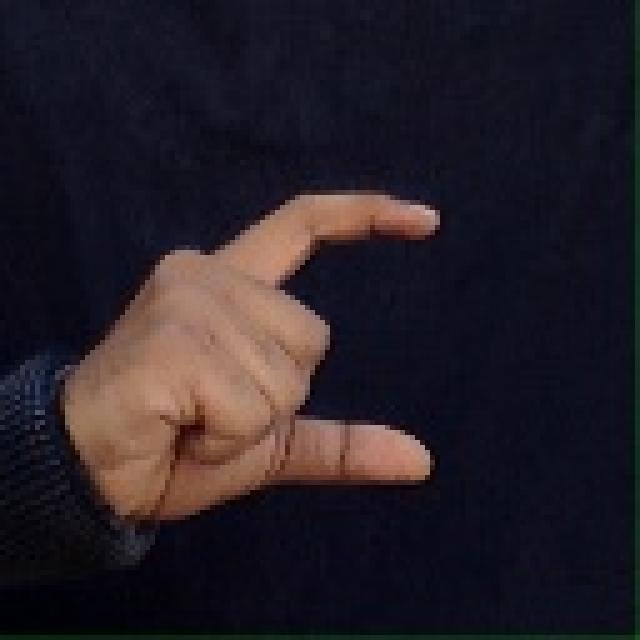c: (2, 174, 453, 602)
